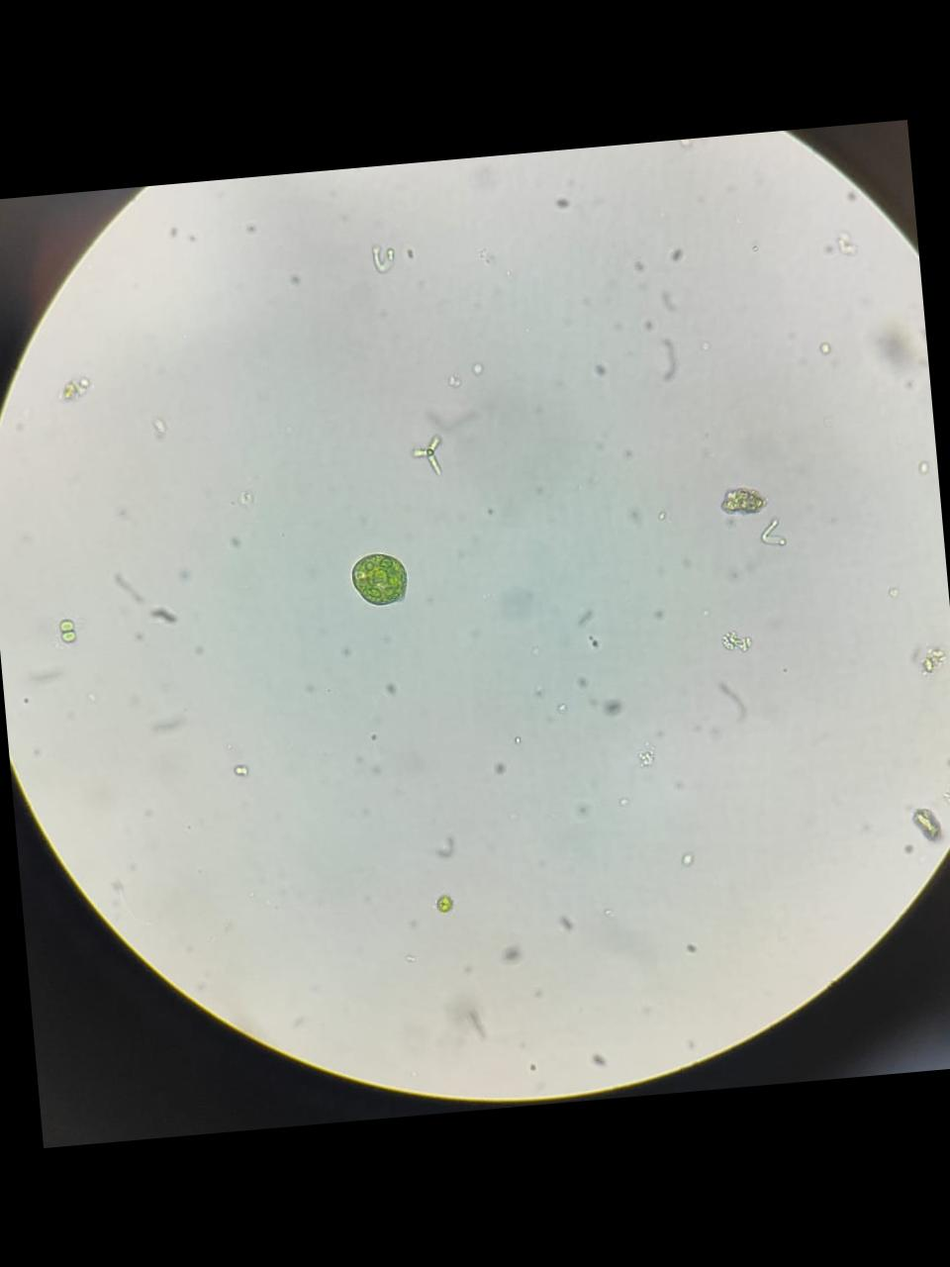Scenedesmus: (400, 427, 453, 481)
